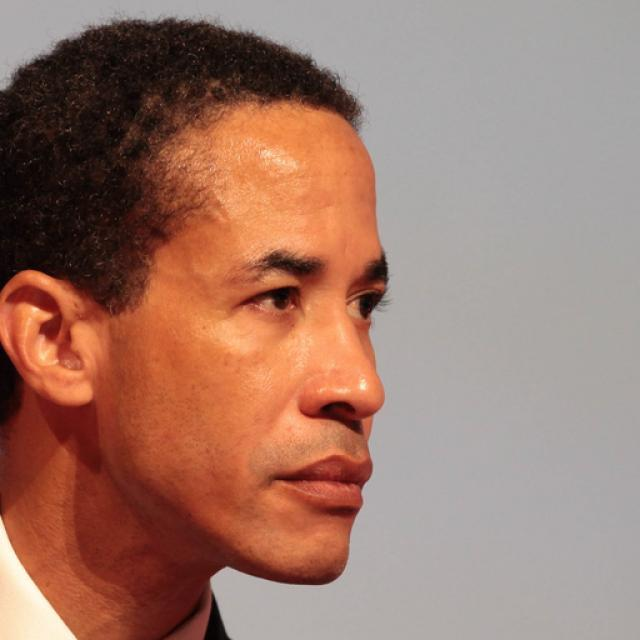anger: (105, 94, 391, 575)
